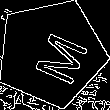M_NW: (18, 22, 84, 85)
